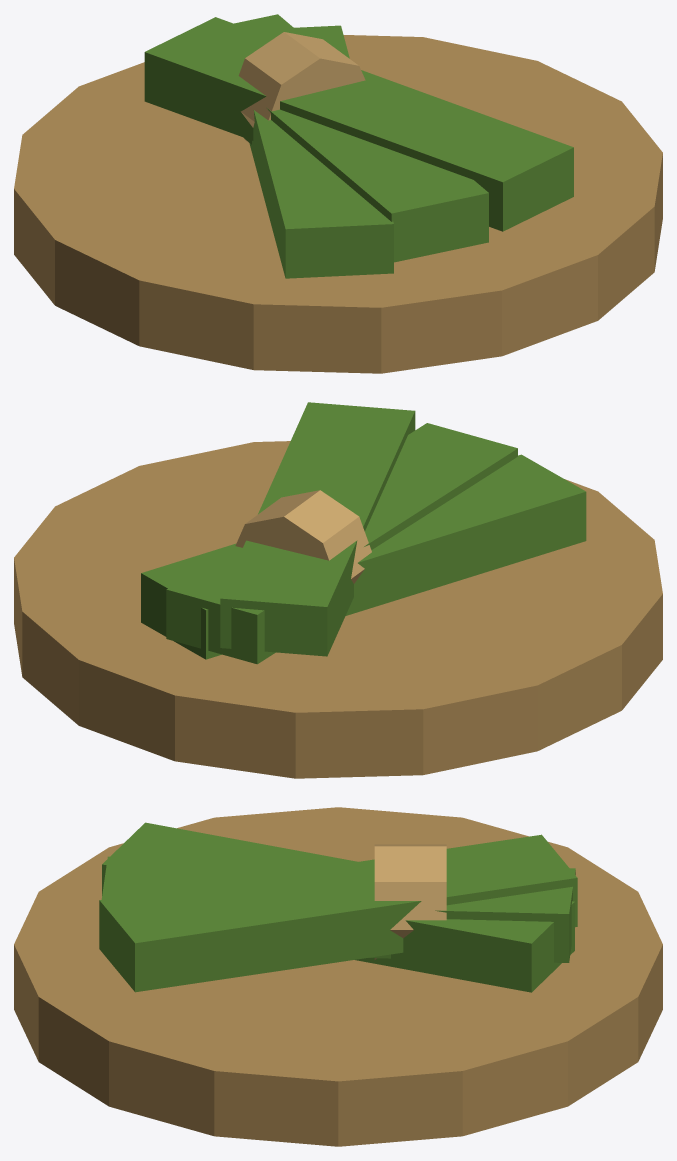
File: Prop_OR_StormHerbToken.glb
3 views of the same model, one above another, from view 1: azimuth 30°, elevation 25°; view 2: azimuth 150°, elevation 25°; view 3: azimuth 270°, elevation 25° (orthographic).
Visible parts, largest first — view 1: Prop_OR_StormHerbToken; view 2: Prop_OR_StormHerbToken; view 3: Prop_OR_StormHerbToken.
Part boxes in pixels (<box>): Prop_OR_StormHerbToken: <box>14,14,662,373</box>; Prop_OR_StormHerbToken: <box>14,402,662,778</box>; Prop_OR_StormHerbToken: <box>14,807,662,1146</box>.
Bounding box in the file's own units: 0.036 × 0.01 × 0.036.
